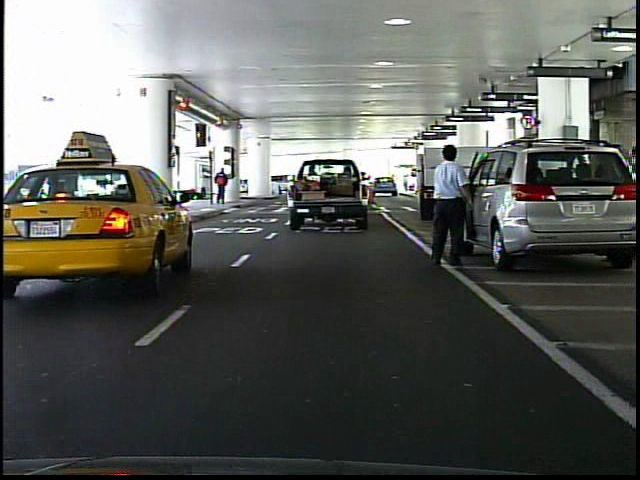person: (422, 139, 478, 275), (212, 164, 231, 207)
